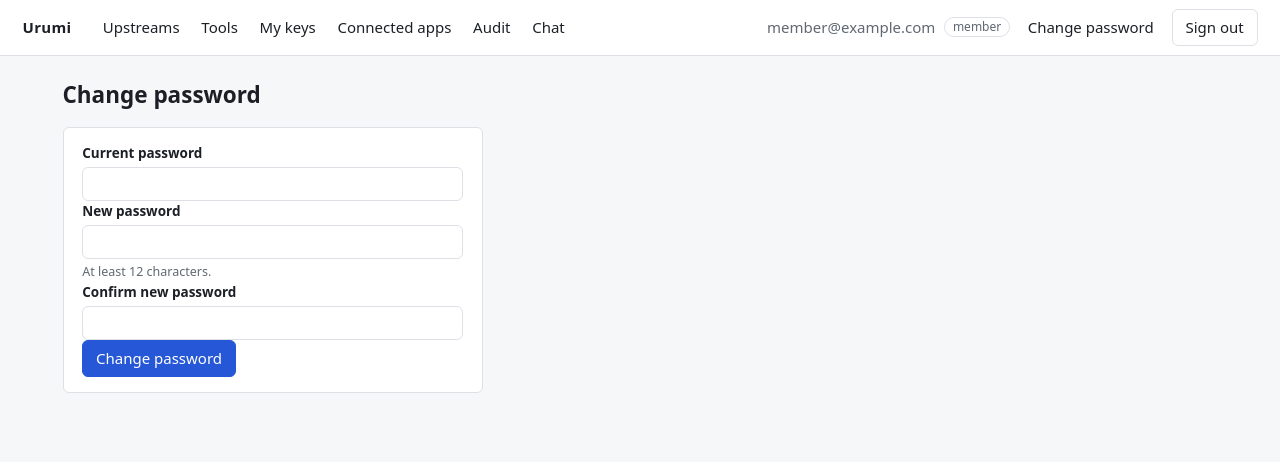
change password › shows the gateway error for a wrong current password
Type "nope" into the password field labelled "Current password". click: (273, 184)
box: [82,167,463,201]
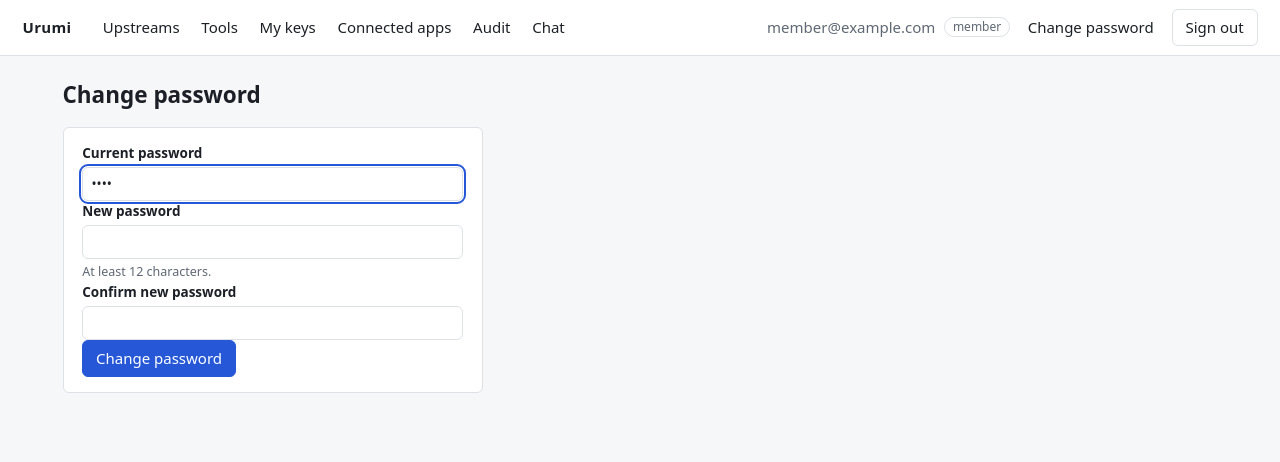
Type "a-much-longer-password" into the password field labelled "New password". click: (273, 242)
box: [82,225,463,259]
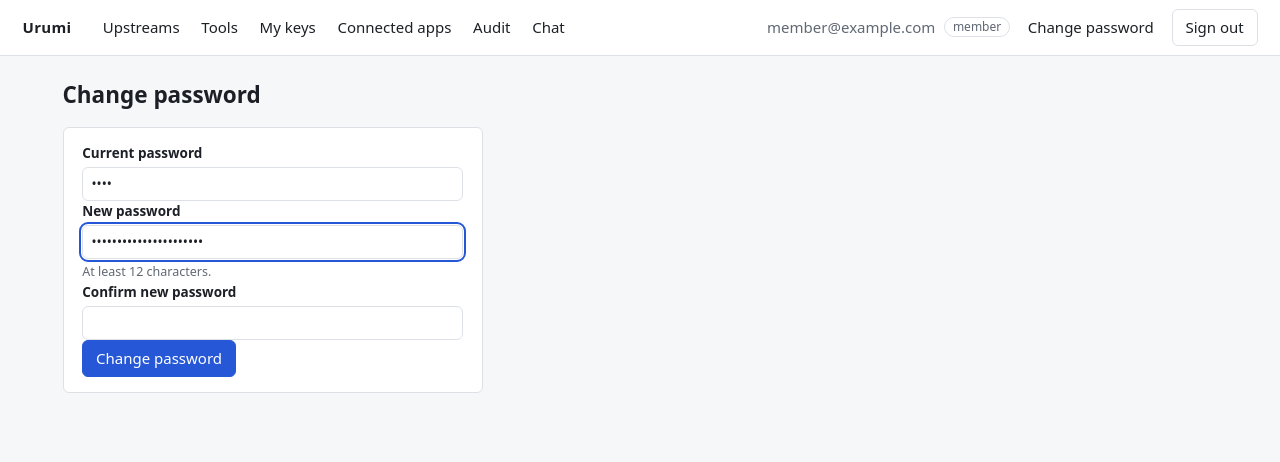
Type "a-much-longer-password" into the password field labelled "Confirm new password". click: (273, 323)
box: [82,306,463,340]
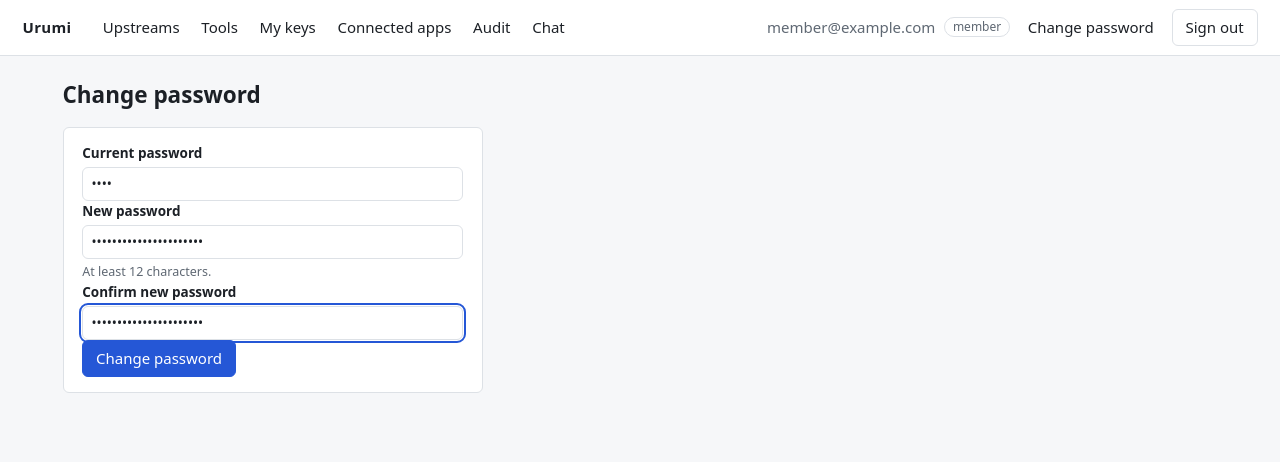
Click the button "Change password". click: (159, 358)
box: [82,340,236,376]
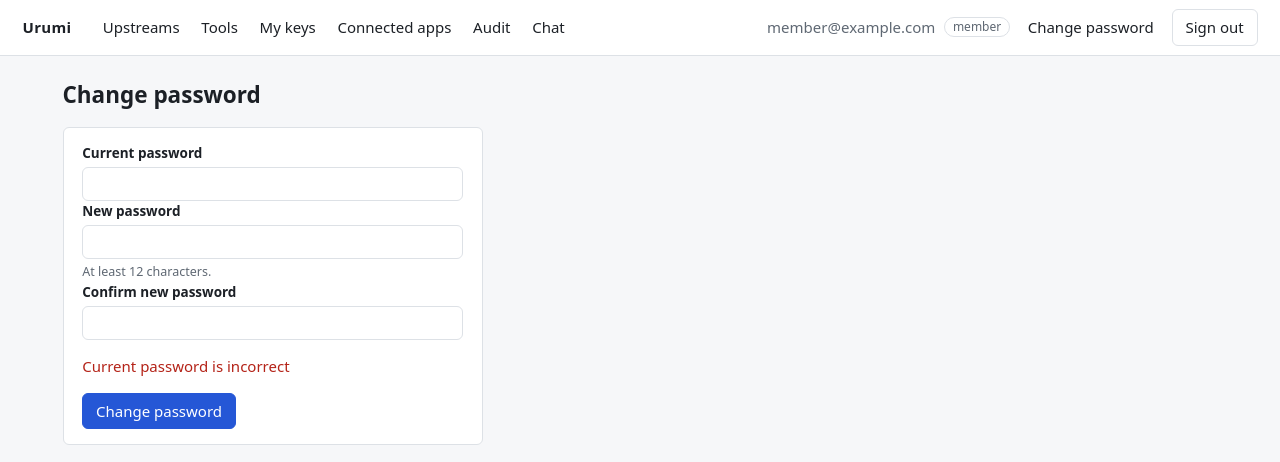
Now the message reads "Current password is incorrect", box [82,356,290,376]
